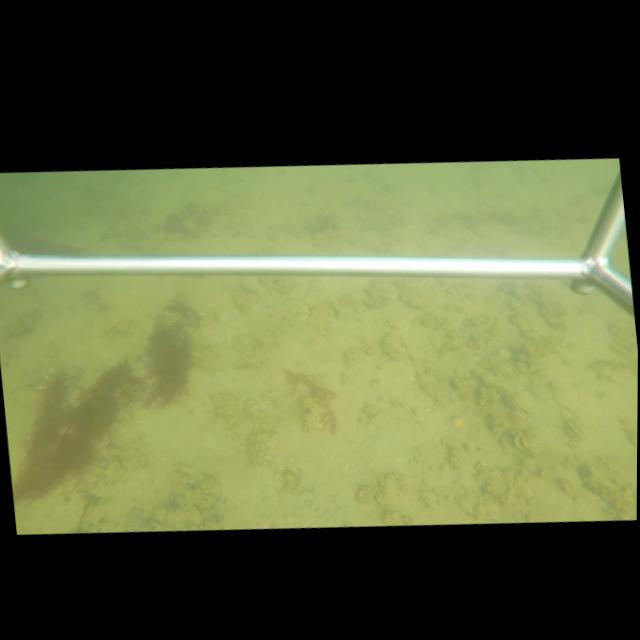Oyster-Closed: (475, 347, 511, 370), (476, 385, 496, 406)
Oyster-Open: (512, 431, 542, 456)
